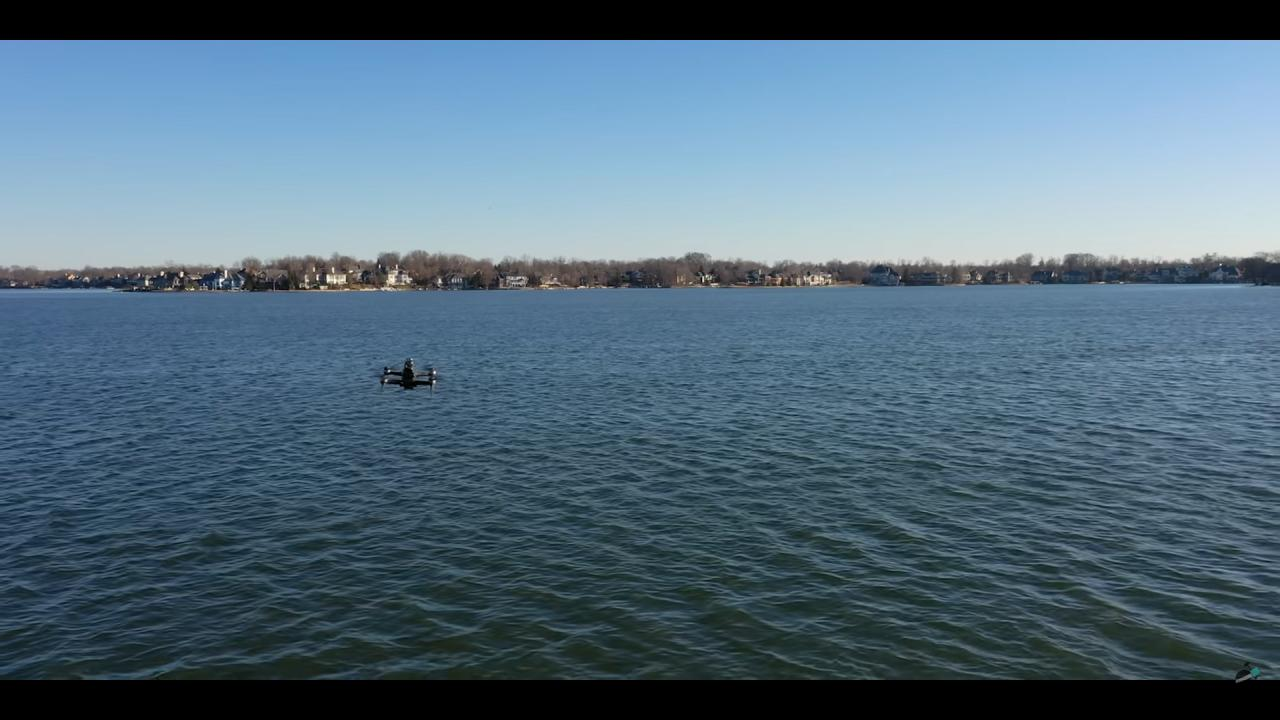Drone: (371, 351, 446, 400)
